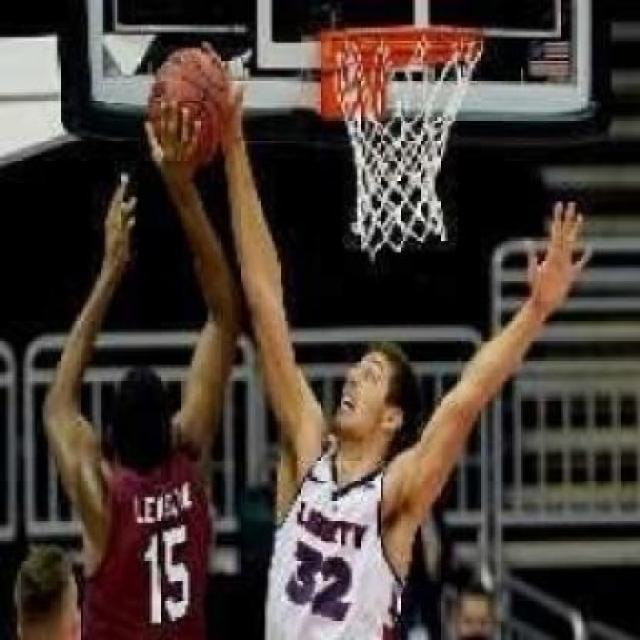basketball: (147, 45, 233, 162)
rim: (328, 26, 484, 250)
